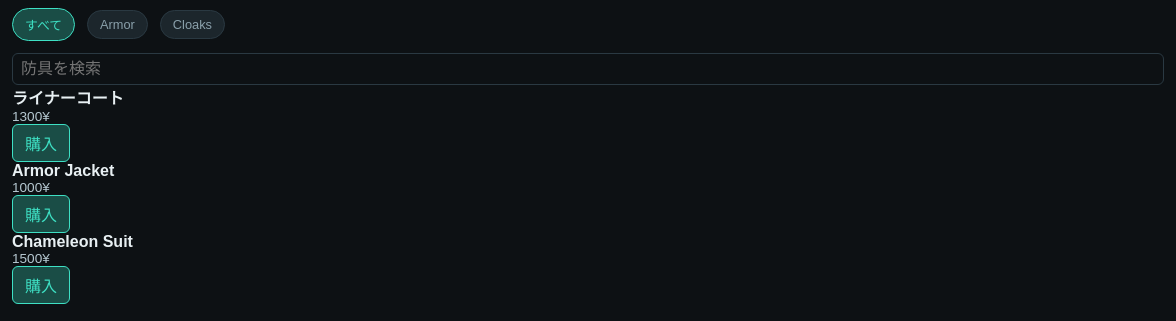
Test case: CatalogPicker › searches the translated name as well as the English one
Type "ライナー" into the search field labelled "防具を検索".
click(588, 69); type("ライナー")  # box [12,53,1164,85]
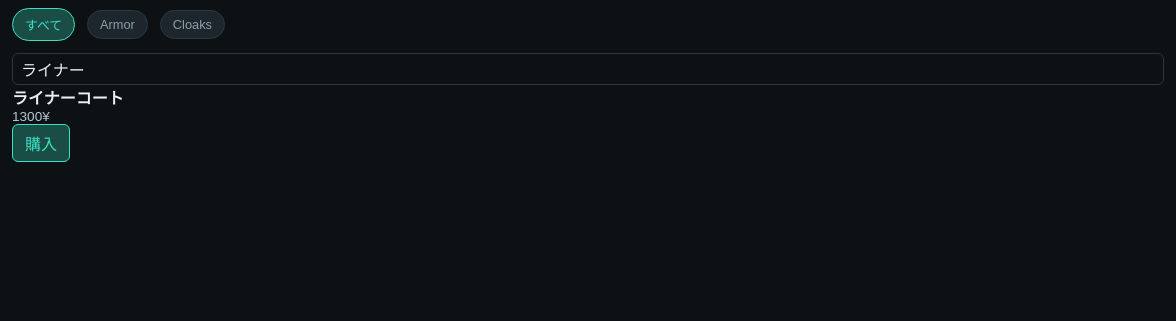
Check: the text "ライナーコート" is shown, box [12,90,124,107]
Check: the text "Armor Jacket" is gone
Replace the text in the search field named "防具を検索" with "chameleon" at (588, 69), box [12,53,1164,85]
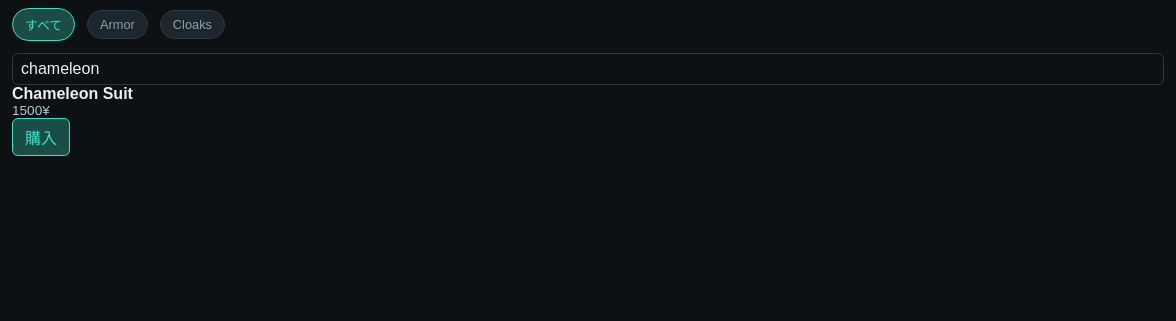
Check: the text "Chameleon Suit" is shown, box [12,85,133,102]
